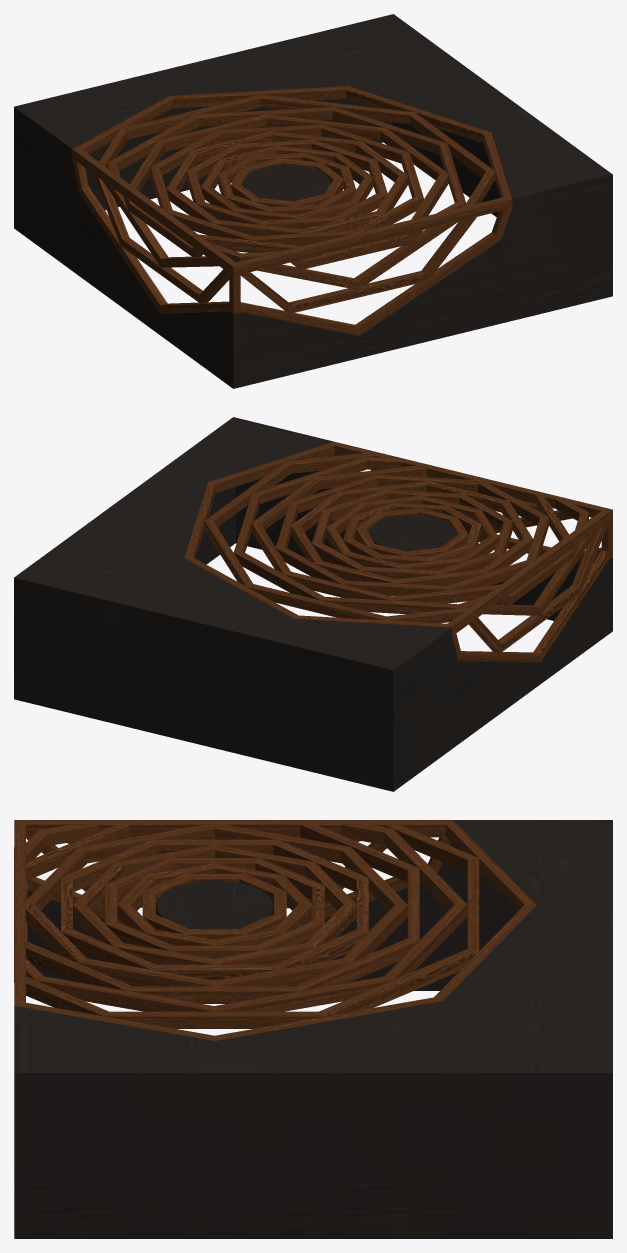
File: ph-modern_coffee_table_02.glb
3 renders of one model, top to bottom at view 1: azimuth 30°, elevation 25°; view 2: azimuth 150°, elevation 25°; view 3: azimuth 270°, elevation 25°, orthographic. The views are drawn at different scales.
Parts seen in each view (by area): view 1: modern_coffee_table_02; view 2: modern_coffee_table_02; view 3: modern_coffee_table_02.
Part boxes in pixels (x1,y1,x2,y2): modern_coffee_table_02: (14,14,612,388); modern_coffee_table_02: (14,417,612,791); modern_coffee_table_02: (14,820,612,1238).
Size of the model in its own units: 0.9995 by 0.3078 by 1.
2 materials, 2 textured.
